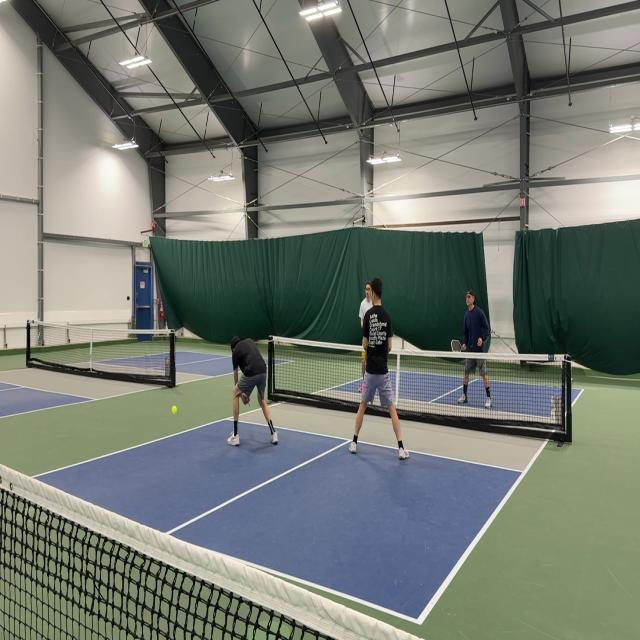ball: (171, 404, 178, 415)
